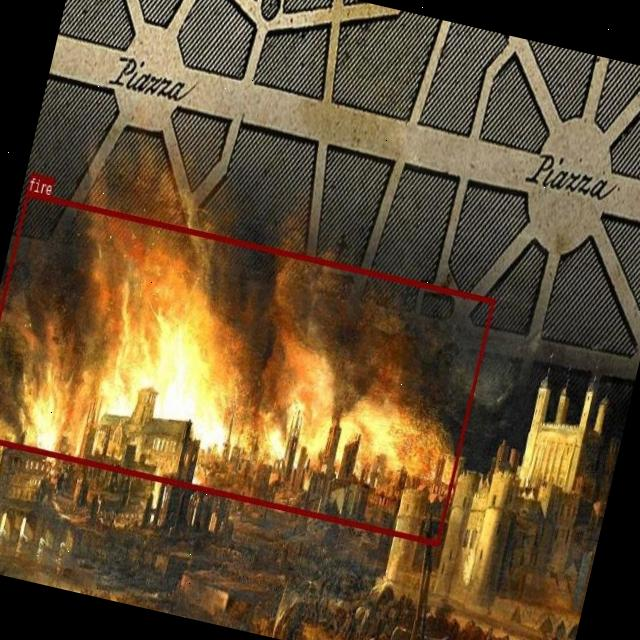fire: (0, 191, 494, 545)
